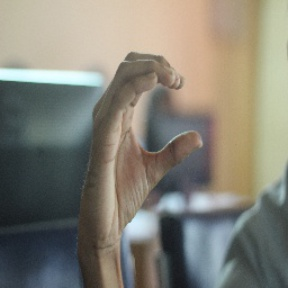C: (93, 47, 209, 188)
